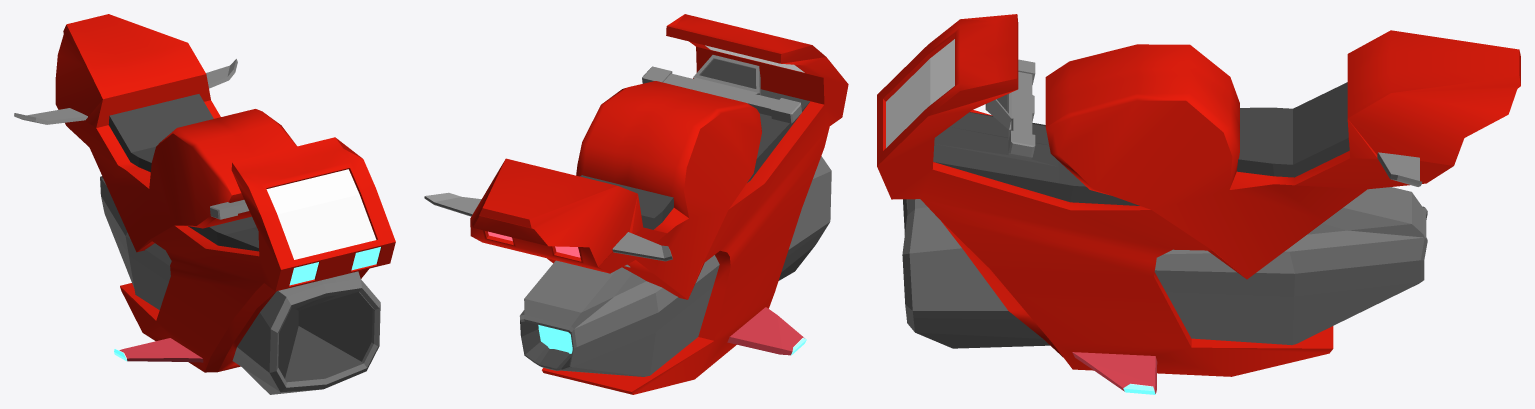
Rendered from low_poly_hover_bike.glb.
3 renders of one model, left to right at view 1: azimuth 30°, elevation 25°; view 2: azimuth 150°, elevation 25°; view 3: azimuth 270°, elevation 25°, orthographic. The views are drawn at different scales.
Visible parts, largest first — view 1: Cube.001_2, Cube.003_4, Cube.002_3, Cube.005_6, Cube.008_9, Cube.009_10, Cube.004_5, Cube.007_8; view 2: Cube.001_2, Cube.002_3, Cube.003_4, Cube.007_8, Cube.008_9, Cube.009_10, Cube.004_5, Cube.005_6; view 3: Cube.001_2, Cube.002_3, Cube.003_4, Cube.005_6, Cube.007_8, Cube.008_9, Cube.009_10.
Boxes of the visible parts, <box> form: Cube.001_2: <box>55,14,395,372</box>; Cube.003_4: <box>108,94,372,382</box>; Cube.002_3: <box>100,176,380,394</box>; Cube.005_6: <box>266,169,376,259</box>; Cube.008_9: <box>119,338,203,362</box>; Cube.009_10: <box>14,59,237,124</box>; Cube.004_5: <box>114,247,380,361</box>; Cube.007_8: <box>14,61,249,219</box>; Cube.001_2: <box>470,14,848,394</box>; Cube.002_3: <box>519,156,831,376</box>; Cube.003_4: <box>521,59,809,368</box>; Cube.007_8: <box>642,55,801,258</box>; Cube.008_9: <box>727,307,804,355</box>; Cube.009_10: <box>424,192,672,261</box>; Cube.004_5: <box>538,325,806,355</box>; Cube.005_6: <box>705,45,804,72</box>; Cube.001_2: <box>877,14,1520,376</box>; Cube.002_3: <box>902,187,1427,348</box>; Cube.003_4: <box>933,82,1427,219</box>; Cube.005_6: <box>886,39,954,147</box>; Cube.007_8: <box>985,59,1420,186</box>; Cube.008_9: <box>1072,352,1157,393</box>; Cube.009_10: <box>1377,152,1422,186</box>.
Bounding box in the file's own units: 22.76 × 21.58 × 42.72.
